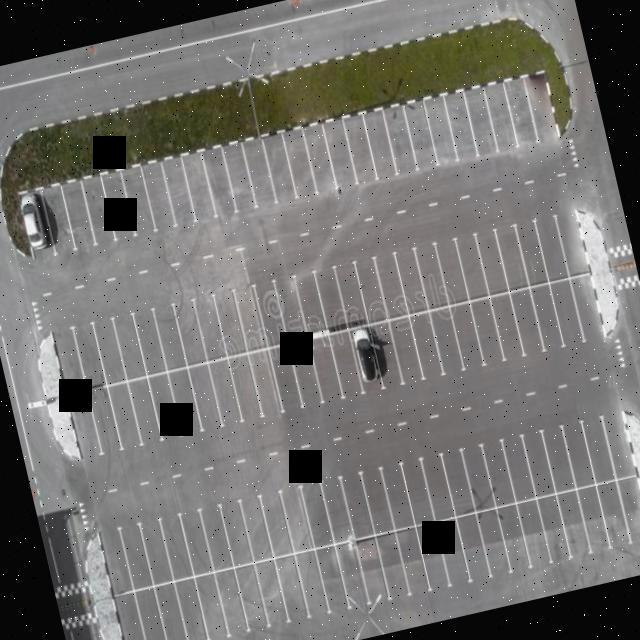empty: (392, 522, 434, 602), (277, 125, 319, 205), (552, 486, 594, 564), (512, 494, 554, 572), (591, 475, 634, 551), (300, 117, 341, 196), (264, 333, 305, 412), (371, 526, 412, 604), (473, 502, 514, 580), (270, 550, 312, 626), (573, 482, 615, 558), (310, 539, 352, 615), (292, 544, 334, 620), (349, 530, 391, 606), (534, 493, 576, 569), (322, 112, 362, 191), (283, 329, 323, 408), (339, 110, 379, 188), (260, 131, 300, 209), (494, 498, 534, 576), (306, 327, 346, 405), (412, 518, 452, 596), (100, 168, 139, 248), (426, 304, 467, 380), (212, 563, 253, 639), (467, 291, 508, 367), (252, 555, 293, 631), (327, 324, 368, 400), (360, 106, 400, 183), (452, 507, 492, 584), (460, 82, 500, 159), (506, 283, 547, 358), (231, 560, 272, 635), (440, 87, 481, 162), (485, 288, 526, 363), (143, 368, 184, 443), (180, 148, 220, 224), (400, 97, 440, 173), (139, 158, 179, 234), (332, 534, 372, 610), (220, 140, 260, 216), (386, 312, 426, 388), (225, 350, 265, 426), (446, 297, 487, 371), (545, 276, 586, 350), (422, 93, 461, 170), (245, 346, 285, 421), (40, 181, 80, 256), (166, 363, 206, 438), (379, 102, 418, 178), (480, 79, 519, 155), (238, 136, 277, 212), (199, 144, 238, 220), (60, 177, 99, 253), (125, 374, 164, 450), (433, 512, 472, 588), (366, 314, 404, 392), (158, 154, 198, 228), (406, 309, 446, 383), (524, 279, 564, 353), (502, 75, 542, 149), (191, 568, 232, 640), (212, 286, 252, 359), (95, 524, 135, 597), (578, 414, 618, 487), (530, 212, 570, 285), (78, 172, 116, 248), (120, 165, 158, 241), (204, 355, 243, 429), (188, 358, 227, 432), (418, 452, 458, 524), (117, 521, 156, 594), (258, 488, 297, 561), (84, 384, 123, 457), (601, 406, 640, 479), (135, 514, 175, 585), (296, 478, 335, 550), (192, 292, 231, 364), (539, 423, 578, 495), (276, 484, 315, 556), (237, 492, 276, 564), (370, 252, 410, 322), (106, 381, 144, 454), (171, 297, 210, 368), (338, 468, 377, 539), (129, 308, 168, 379), (316, 472, 355, 543), (90, 316, 128, 388), (219, 498, 258, 568), (393, 247, 432, 317), (457, 441, 496, 511), (439, 448, 478, 518), (500, 432, 539, 502), (473, 226, 512, 296), (512, 218, 551, 288), (50, 324, 89, 394), (377, 460, 415, 531), (176, 506, 214, 577), (400, 456, 438, 527), (109, 312, 147, 383), (452, 233, 490, 304), (558, 419, 596, 490), (433, 238, 472, 307), (491, 222, 530, 291), (170, 572, 210, 639), (68, 387, 105, 459), (479, 436, 517, 506), (198, 502, 236, 572), (230, 285, 268, 355), (151, 304, 189, 374), (157, 510, 195, 580), (358, 465, 396, 535), (520, 428, 558, 498), (411, 242, 449, 312), (70, 321, 108, 390), (253, 280, 290, 350), (313, 264, 351, 331), (349, 257, 387, 324), (293, 269, 331, 336), (151, 577, 192, 639), (334, 260, 371, 327), (272, 275, 309, 342), (129, 583, 170, 640), (612, 470, 640, 546), (632, 467, 640, 545)
occupied: (15, 184, 55, 260), (345, 317, 383, 396)
